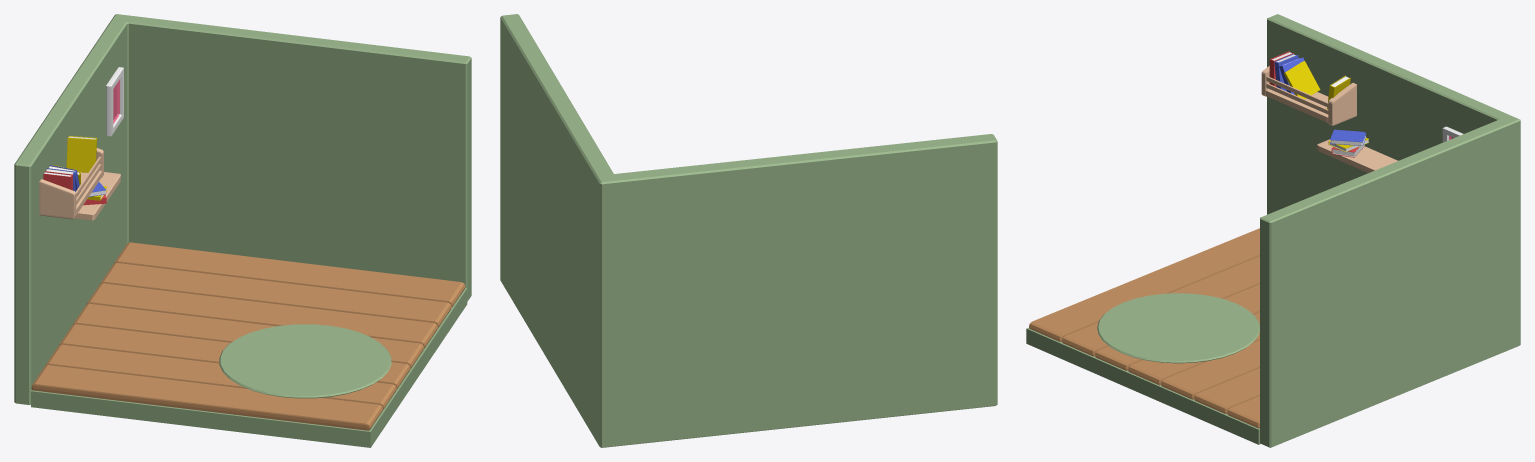
File: newWall.glb
3 views of the same model, side by side, from view 1: azimuth 30°, elevation 25°; view 2: azimuth 150°, elevation 25°; view 3: azimuth 270°, elevation 25° (orthographic). The views are drawn at different scales.
Visible parts, largest first — view 1: newWall; view 2: newWall; view 3: newWall.
Boxes of the visible parts, x1=… form: newWall: x1=14, y1=14, x2=471, y2=447; newWall: x1=500, y1=14, x2=997, y2=447; newWall: x1=1026, y1=14, x2=1520, y2=447.
Bounding box in the file's own units: 4.35 × 2.22 × 4.37.
